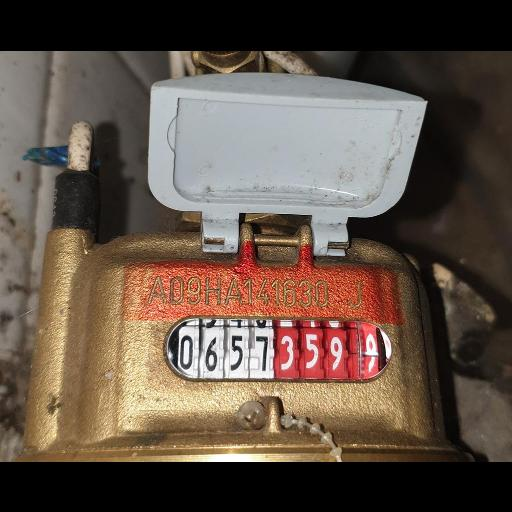0: (177, 324, 199, 376)
3: (275, 327, 297, 378)
5: (300, 326, 322, 378), (226, 327, 248, 378)
6: (201, 325, 224, 377)
7: (251, 326, 274, 378)
9: (350, 325, 379, 379), (324, 326, 348, 378)
border_water_meter_number: (162, 313, 392, 387)
